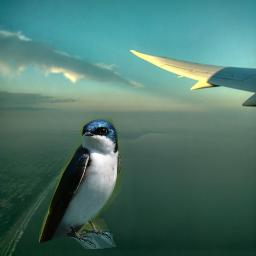Swallow: (39, 117, 123, 249)
